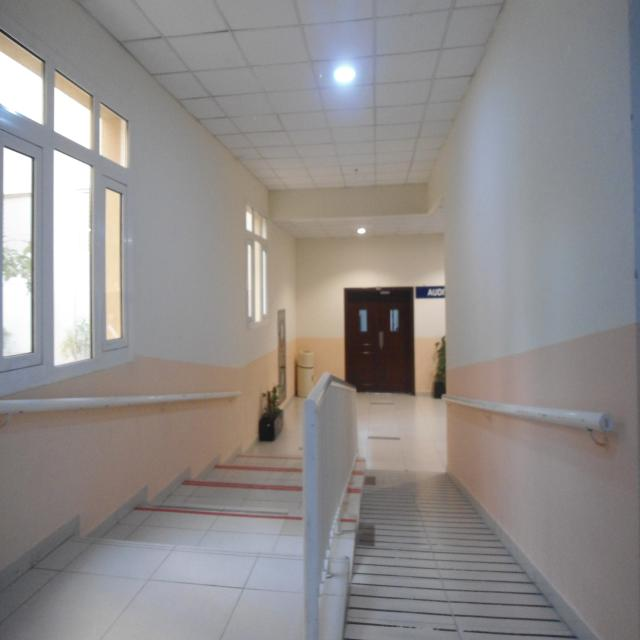door: (340, 283, 416, 398)
light: (328, 64, 360, 82)
railing: (308, 365, 360, 639)
ramp: (345, 440, 591, 640)
stairs: (61, 382, 368, 640)
window: (0, 28, 133, 404), (240, 202, 272, 328)
